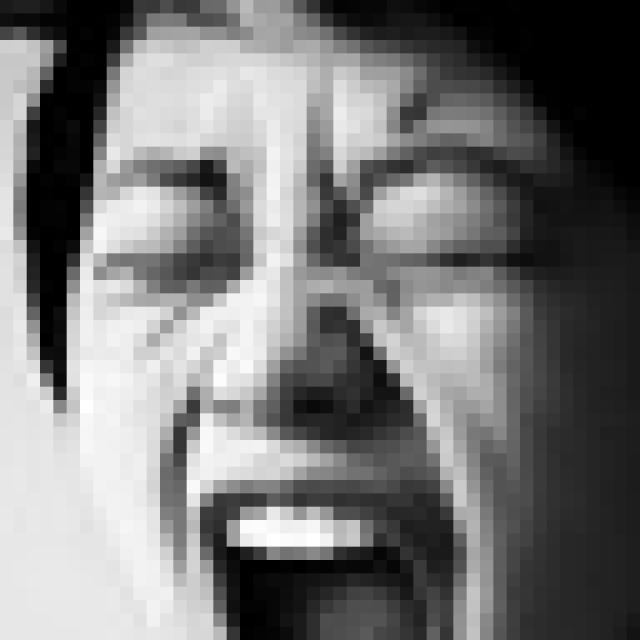angry: (92, 133, 558, 640)
